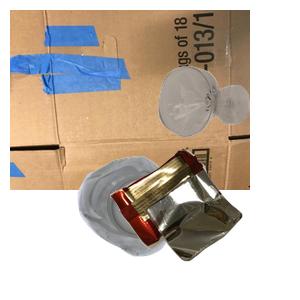cardboard: (10, 10, 250, 190)
glass: (156, 64, 300, 194)
plastic: (75, 154, 248, 300)
trash: (107, 148, 300, 300)
